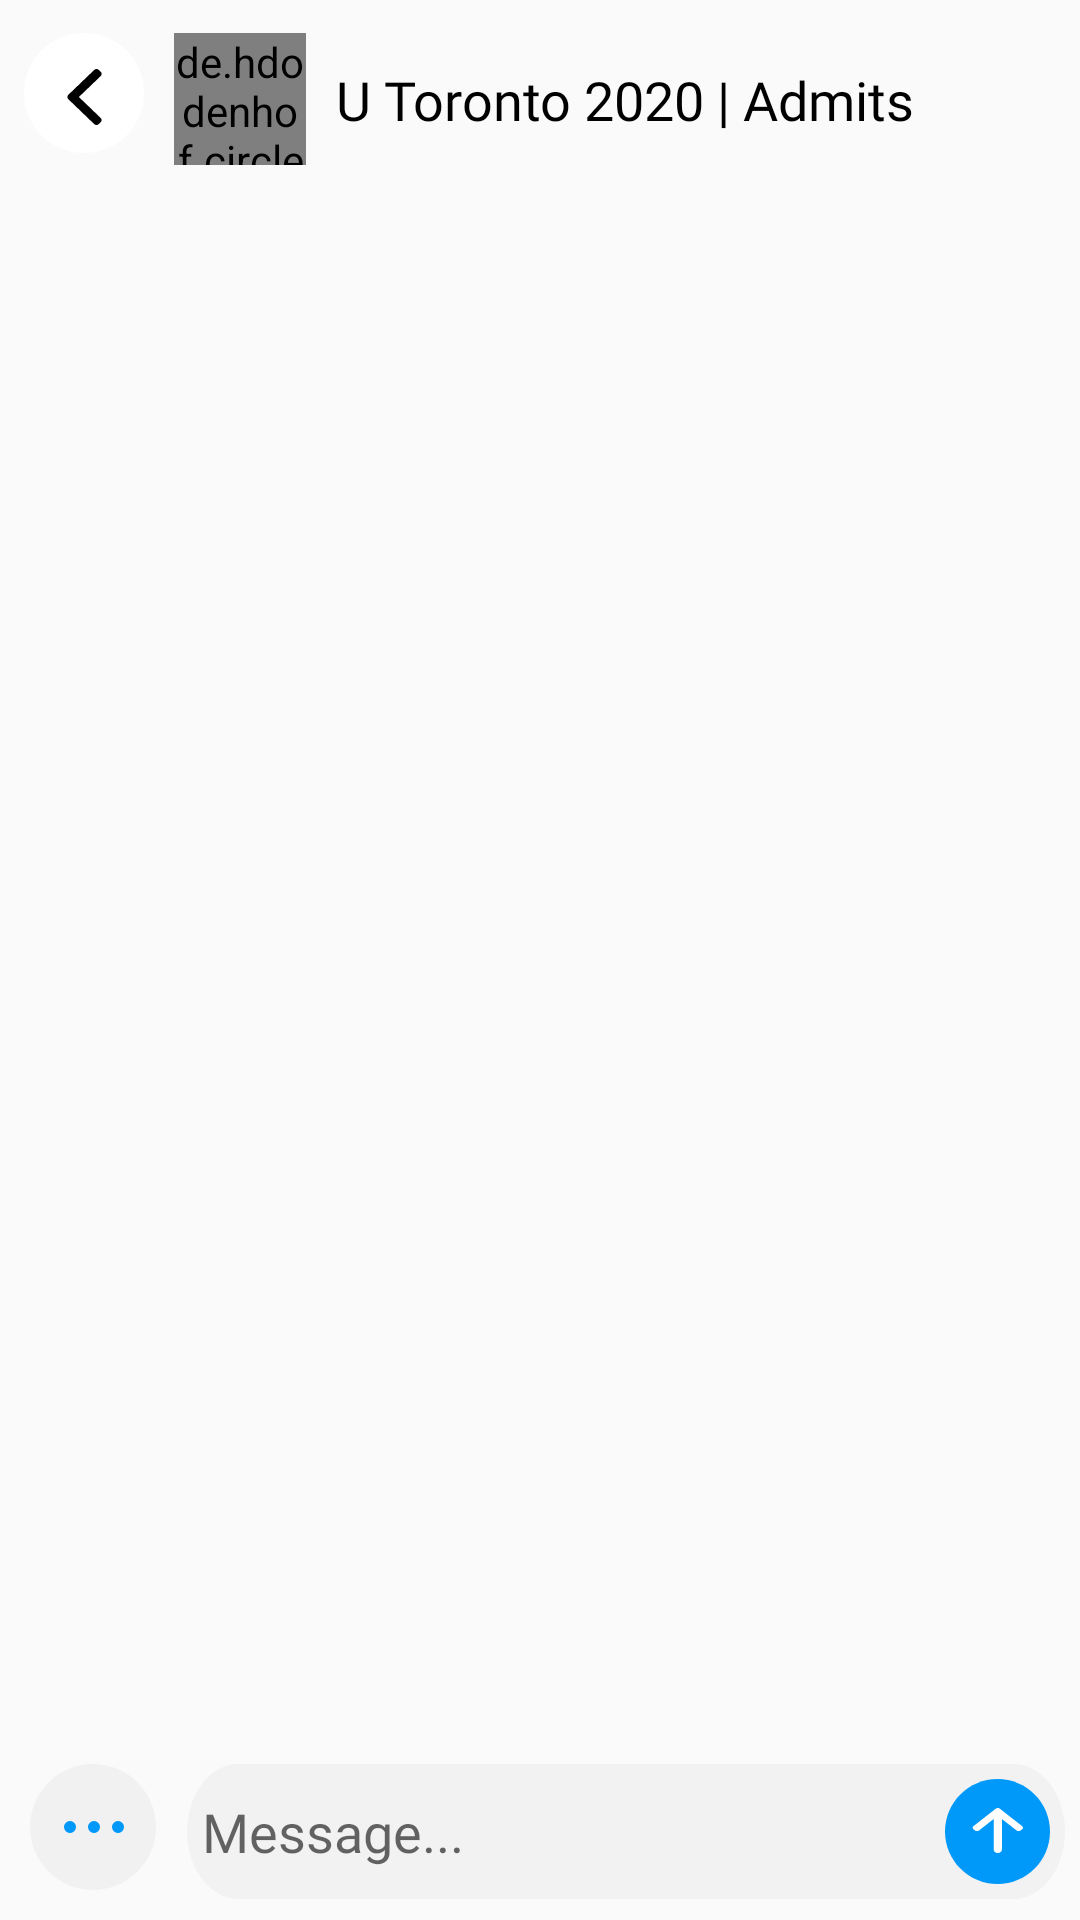

Screen size 1080 × 1920. Icon name, then its center in pixels as (x=x, y=y):
back: (x=84, y=97)
